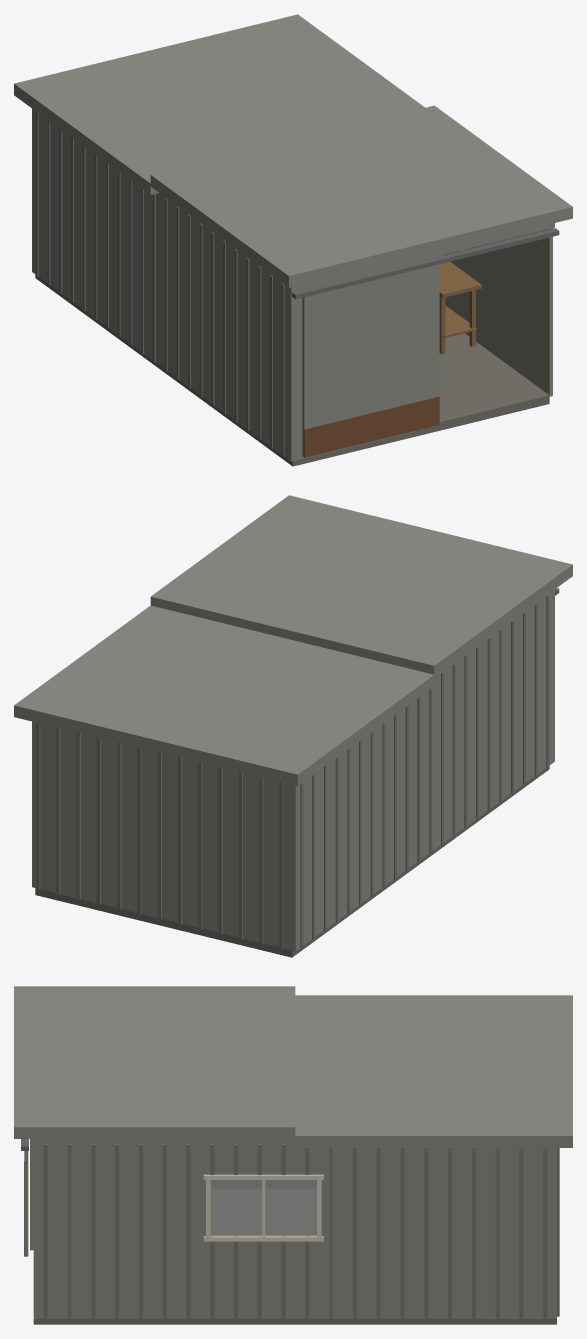
Rendered from kensington_shed.glb.
3 renders of one model, top to bottom at view 1: azimuth 30°, elevation 25°; view 2: azimuth 150°, elevation 25°; view 3: azimuth 270°, elevation 25°, orthographic.
Visible parts, largest first — view 1: KensingtonShed; view 2: KensingtonShed; view 3: KensingtonShed.
Part boxes in pixels (<box>): KensingtonShed: <box>14,14,572,466</box>; KensingtonShed: <box>14,495,572,957</box>; KensingtonShed: <box>14,986,572,1324</box>.
Size of what is drawn, in the model's own units: 4.2 by 2.84 by 7.05.
